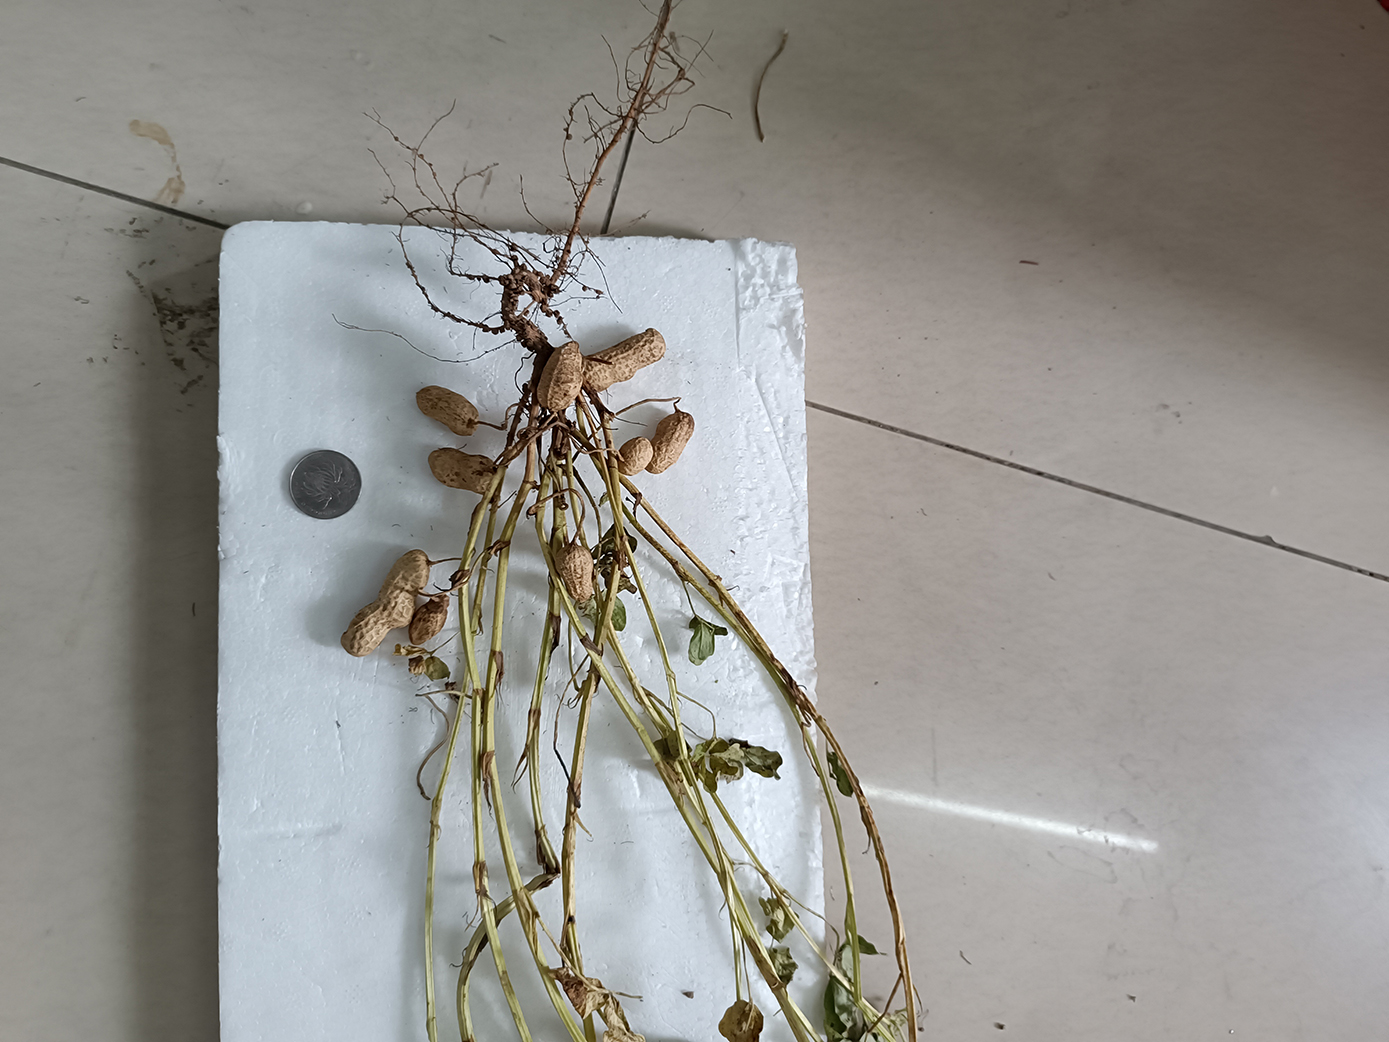h: (343, 551, 432, 656), (583, 327, 668, 391), (428, 447, 499, 493), (416, 385, 481, 436), (539, 341, 583, 412), (648, 410, 696, 474), (556, 544, 595, 601), (617, 437, 652, 475)
l: (409, 598, 451, 642)
